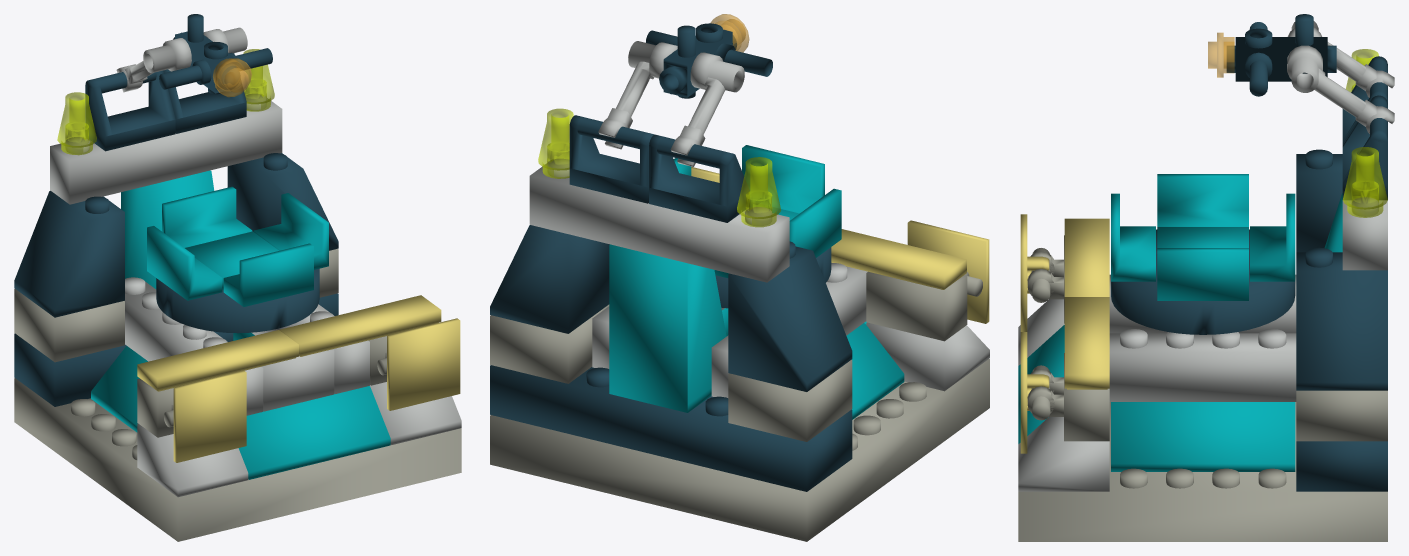
The model's file is GenericBuilding.fbx.
3 renders of one model, left to right at view 1: azimuth 30°, elevation 25°; view 2: azimuth 150°, elevation 25°; view 3: azimuth 270°, elevation 25°, orthographic. The views are drawn at different scales.
Parts seen in each view (by area): view 1: 2431_1_2431_1n; view 2: 2431_1_2431_1n; view 3: 2431_1_2431_1n.
Part boxes in pixels (x1=…): 2431_1_2431_1n: x1=14, y1=14, x2=461, y2=541; 2431_1_2431_1n: x1=490, y1=14, x2=989, y2=541; 2431_1_2431_1n: x1=1018, y1=14, x2=1394, y2=541.
Bounding box in the file's own units: 0.7988 × 1.07 × 0.8122.
